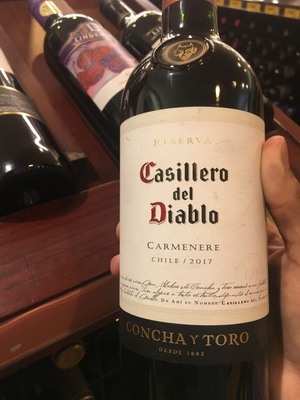casillero del diablo carmenere: (116, 8, 274, 394)
